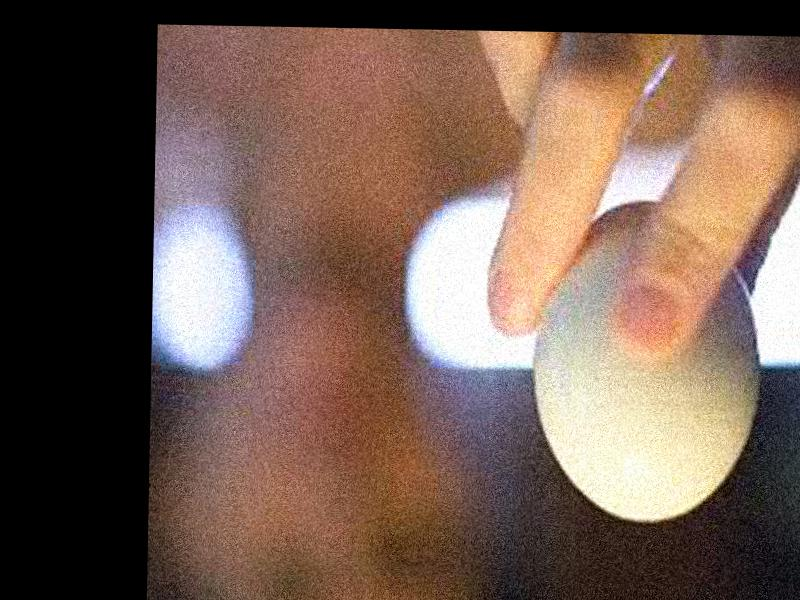Eggs: (526, 198, 759, 523)
